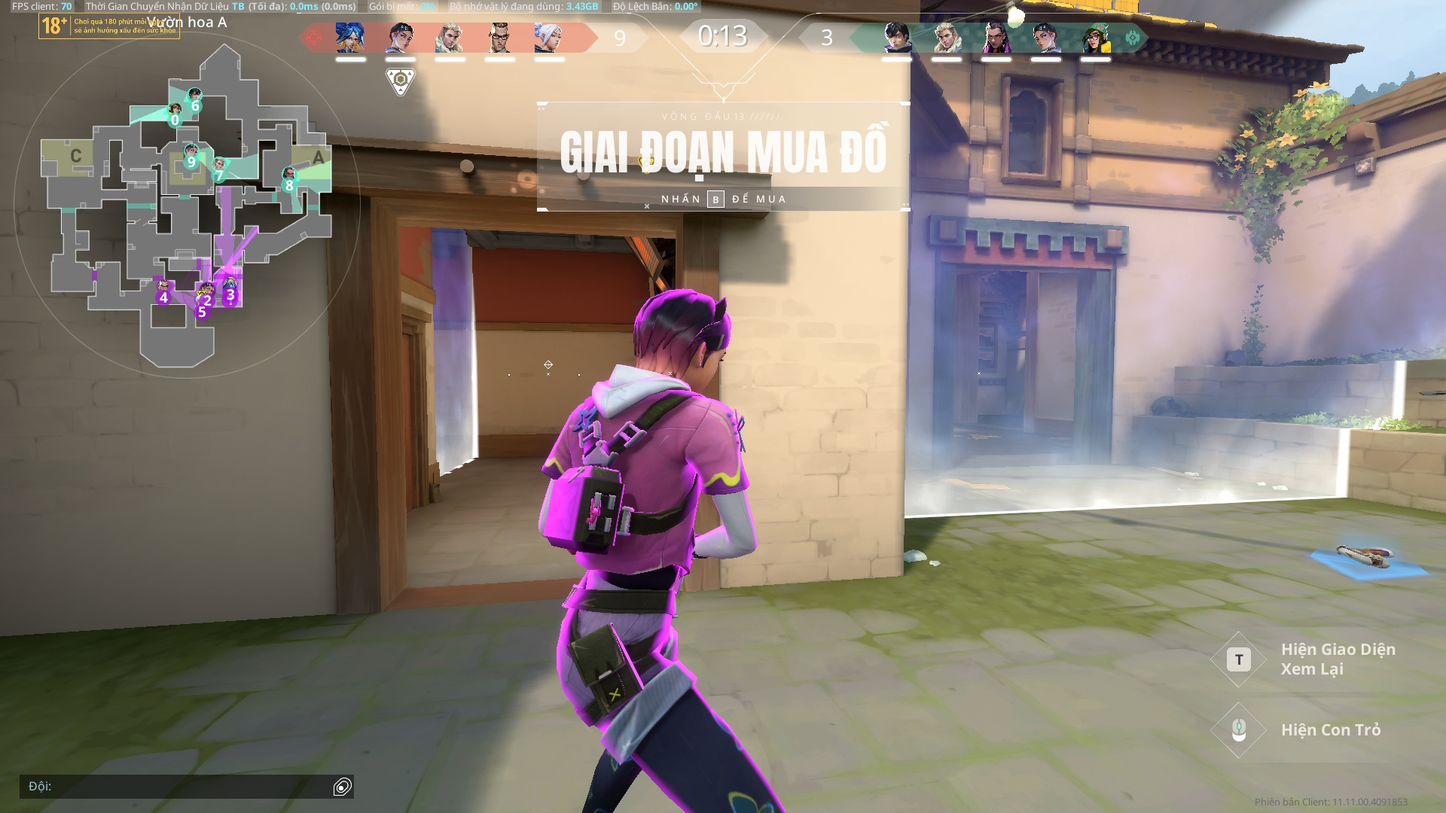body: (567, 366, 742, 590)
head: (631, 283, 731, 388)
